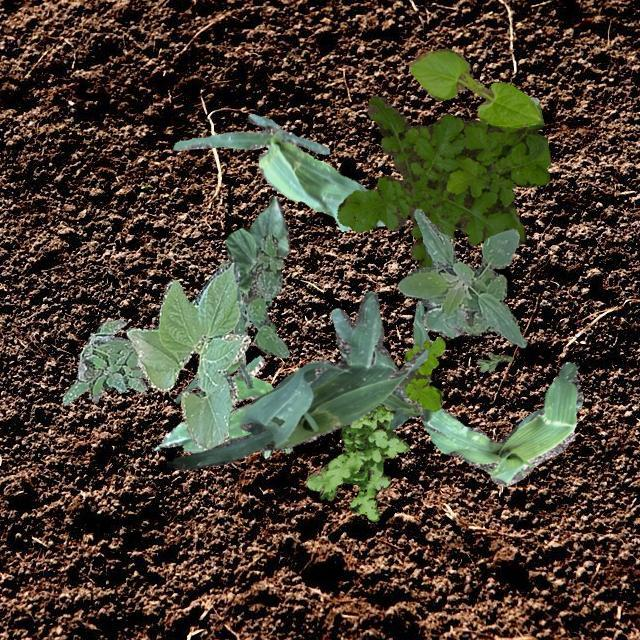crop: (165, 290, 428, 470), (173, 112, 383, 230), (126, 262, 250, 449), (420, 362, 582, 486), (396, 208, 526, 346), (158, 354, 272, 452), (408, 47, 540, 126), (175, 286, 252, 402), (218, 196, 288, 294), (386, 300, 428, 428)
weed: (336, 95, 550, 268), (306, 402, 408, 520), (230, 232, 288, 356), (62, 318, 146, 402), (402, 336, 443, 410), (476, 352, 512, 372), (260, 444, 291, 456), (529, 96, 537, 105)
